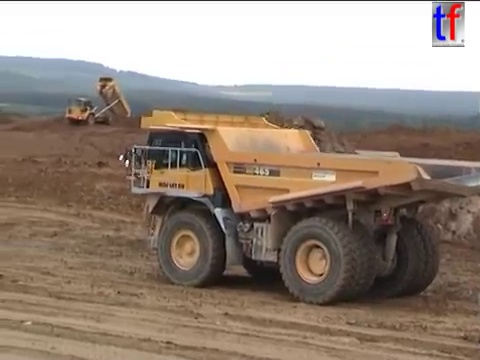truck: (123, 108, 480, 305), (116, 108, 403, 254), (62, 75, 131, 126)
